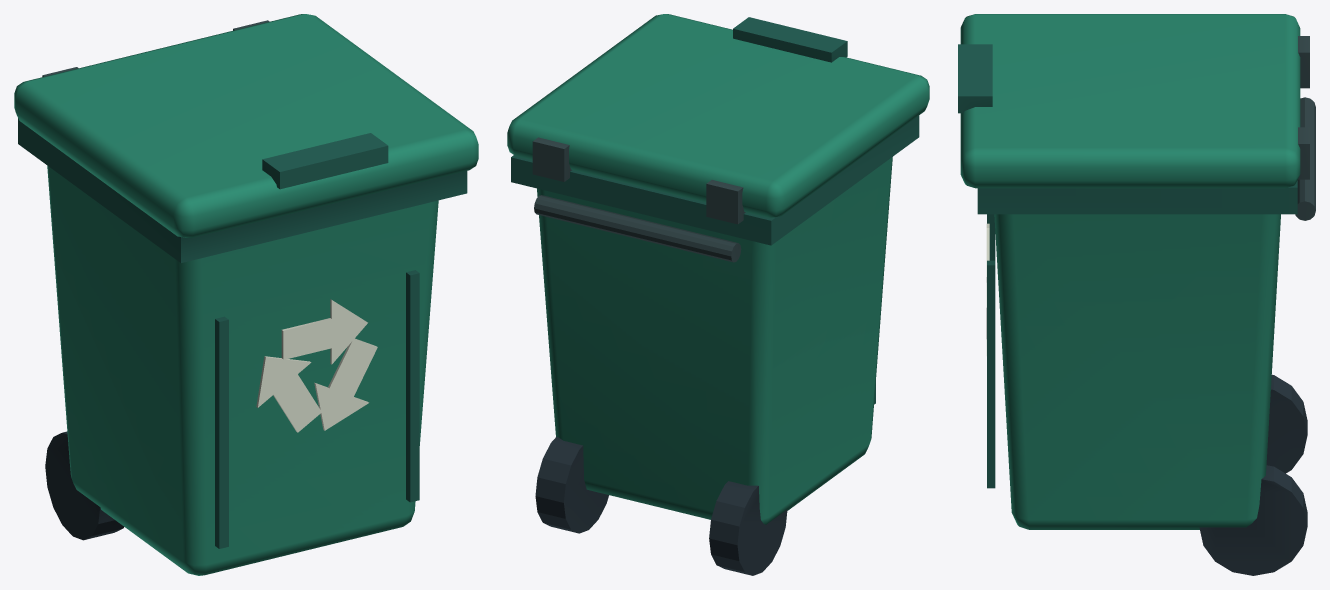
Rendered from waste-bin.glb.
3 renders of one model, left to right at view 1: azimuth 30°, elevation 25°; view 2: azimuth 150°, elevation 25°; view 3: azimuth 270°, elevation 25°, orthographic. The views are drawn at different scales.
Parts seen in each view (by area): view 1: tapered collection bin, reinforced rim, recycling arrow, collection wheel; view 2: tapered collection bin, reinforced rim, collection wheel, hinge; view 3: tapered collection bin, reinforced rim, collection wheel, hinge.
Boxes of the visible parts, <box> form: tapered collection bin: <box>14,14,478,575</box>; reinforced rim: <box>18,118,467,548</box>; recycling arrow: <box>256,299,377,432</box>; collection wheel: <box>45,431,123,540</box>; tapered collection bin: <box>507,14,929,524</box>; reinforced rim: <box>511,17,919,404</box>; collection wheel: <box>535,436,787,575</box>; hinge: <box>532,137,745,262</box>; tapered collection bin: <box>960,14,1300,529</box>; reinforced rim: <box>958,44,1297,488</box>; collection wheel: <box>1199,374,1307,575</box>; hinge: <box>1295,36,1315,220</box>.
Size of the model in its own units: 0.7 by 1.01 by 0.727.
